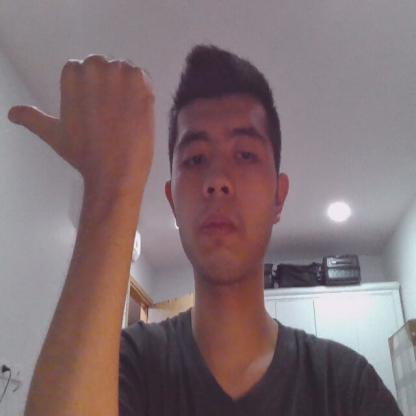right: (6, 51, 158, 199)
